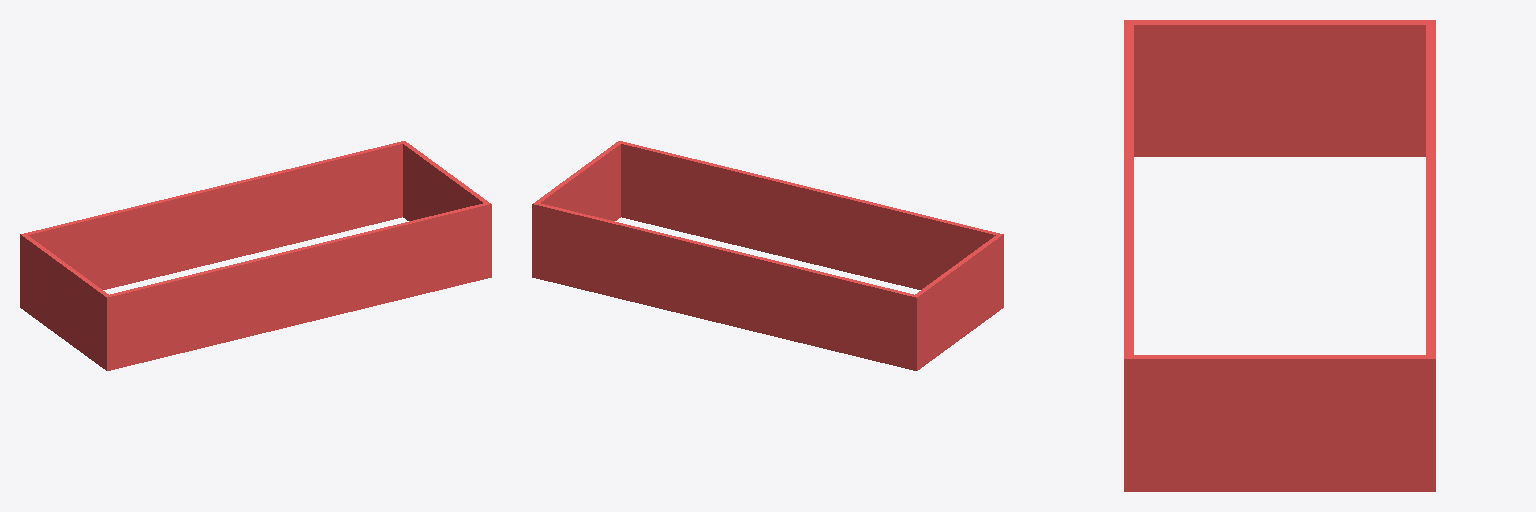
The robot description file, URDF, robot "wider_room.urdf":
<?xml version="1.0" ?>
<robot name="wider_room.urdf">
  <link concave="yes" name="baseLink">
    <inertial>
      <origin rpy="0 0 0" xyz="0.0 0.0 0.0"/>
       <mass value=".0"/>
       <inertia ixx="0" ixy="0" ixz="0" iyy="0" iyz="0" izz="0"/>
    </inertial>

    <visual>
      <origin rpy="1.57075 0 0" xyz="0 0 0"/>
      <geometry>
        <mesh filename="wider_room.obj" scale="1 1 1"/>
      </geometry>
       <material name="red">
        <color rgba="1 0.4 0.4 1"/>
      </material>
    </visual>

    <collision concave="yes">
      <origin rpy="1.57075 0 0" xyz="0 0 0"/>
      <geometry>
	 	    <mesh filename="wider_room.obj" scale="1 1 1"/>
      </geometry>
    </collision>
  </link>
</robot>

--- What the picture shows (computed from the rendered views, not written in the file) ---
3 views of the same robot in one strip: view 1: azimuth 30°, elevation 25°; view 2: azimuth 150°, elevation 25°; view 3: azimuth 270°, elevation 25° (orthographic).
Robot: wider_room.urdf — 1 links, 0 joints (none); root link baseLink; default pose: every joint at zero.
Visible links, largest first — view 1: baseLink; view 2: baseLink; view 3: baseLink.
Link boxes in pixels (x1=…): baseLink: x1=20, y1=141, x2=491, y2=370; baseLink: x1=532, y1=141, x2=1003, y2=370; baseLink: x1=1124, y1=20, x2=1435, y2=491.
Bounding box of the posed robot: 8.2 × 3.2 × 1.5 m (x, y, z).
Meshes: 1 distinct files referenced, 1 mesh visuals loaded (1 OBJ).